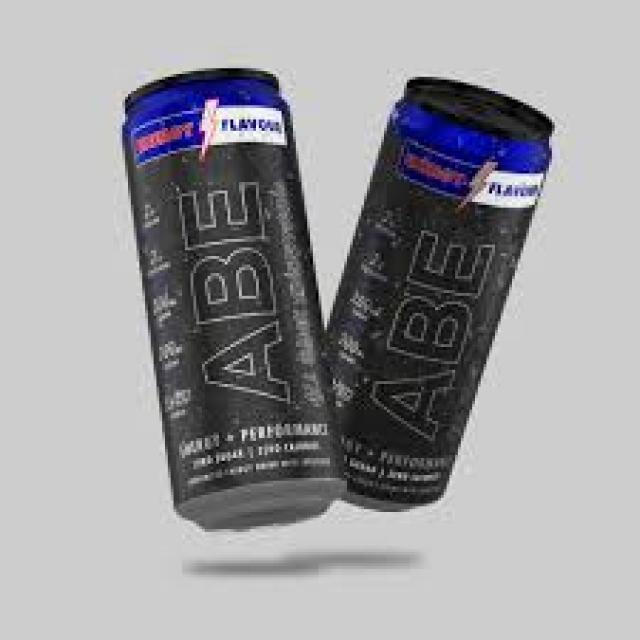Cans: (116, 57, 352, 540), (319, 68, 563, 518)
